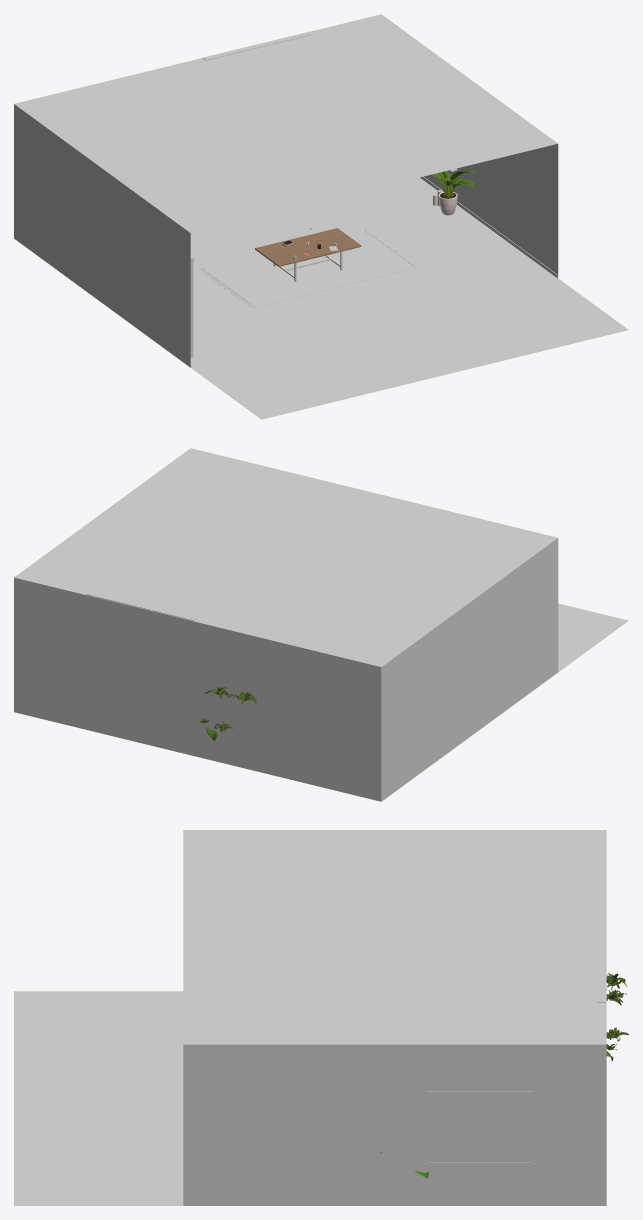
Rendered from room.glb.
3 renders of one model, top to bottom at view 1: azimuth 30°, elevation 25°; view 2: azimuth 150°, elevation 25°; view 3: azimuth 270°, elevation 25°, orthographic. The views are drawn at different scales.
Parts seen in each view (by area): view 1: Room · baked, Glossy · desk top, Textured · props; view 2: Room · baked, Textured · props; view 3: Room · baked, Textured · props.
Part boxes in pixels (x1,y1,x2,y2): Room · baked: [14, 14, 628, 419]; Glossy · desk top: [255, 228, 361, 266]; Textured · props: [282, 170, 475, 259]; Room · baked: [14, 448, 628, 801]; Textured · props: [197, 686, 257, 740]; Room · baked: [14, 830, 606, 1205]; Textured · props: [380, 973, 628, 1178].
Size of the model in its own units: 12.12 by 4.36 by 14.52.
47 materials, 33 textured.
